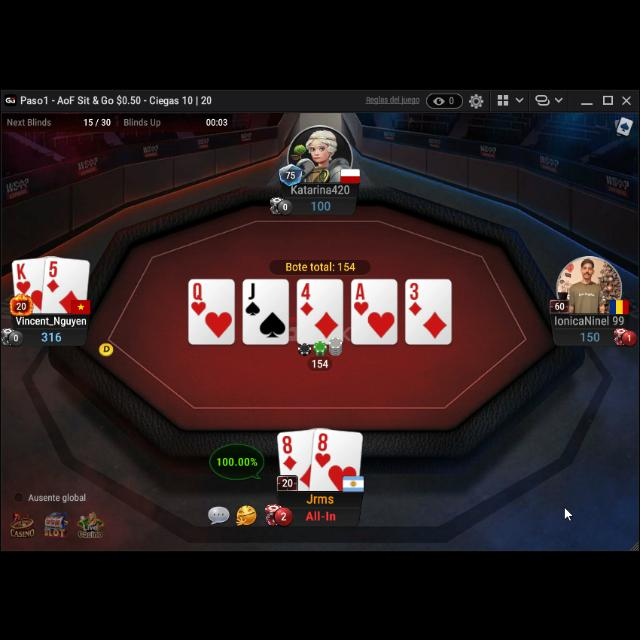3d: (406, 280, 424, 318)
4d: (298, 280, 318, 318)
5d: (44, 257, 64, 295)
8d: (282, 433, 300, 471)
8h: (314, 430, 332, 470)
Ah: (352, 280, 371, 316)
Js: (244, 280, 264, 318)
Kh: (14, 259, 34, 297)
Qh: (190, 280, 208, 316)
all_in_symbol: (304, 506, 338, 524)
bet_text: (310, 356, 330, 370)
dealer: (96, 339, 118, 359)
pot_text: (284, 260, 360, 272)
stack_text: (578, 328, 604, 344), (308, 198, 334, 212), (40, 330, 62, 342)
